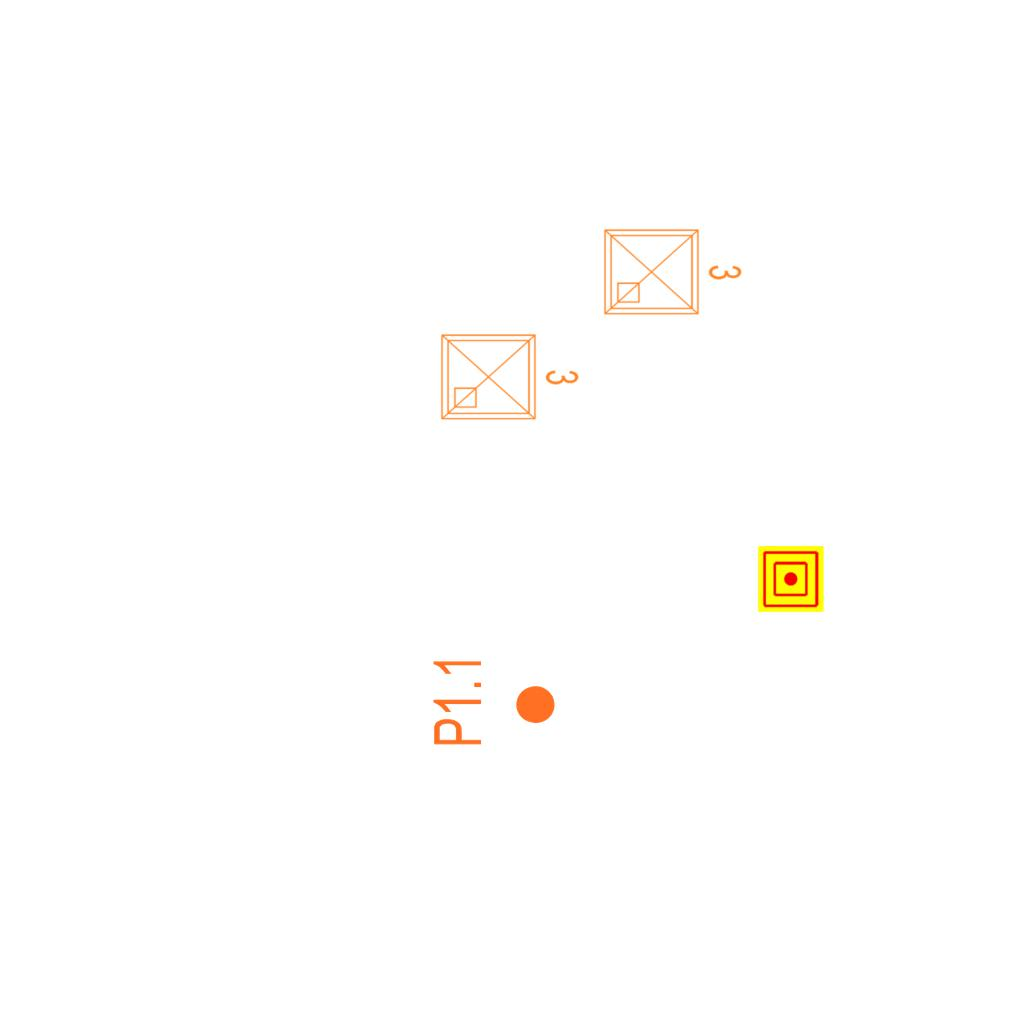Downlight_LED_Einbauleuchten_Flur: (430, 655, 558, 748)
Einbaudownlights_LED_Konferenzraeume: (597, 218, 747, 322), (434, 323, 584, 427)
NAM-Nichtautomatischer_Melder: (758, 546, 824, 612)
